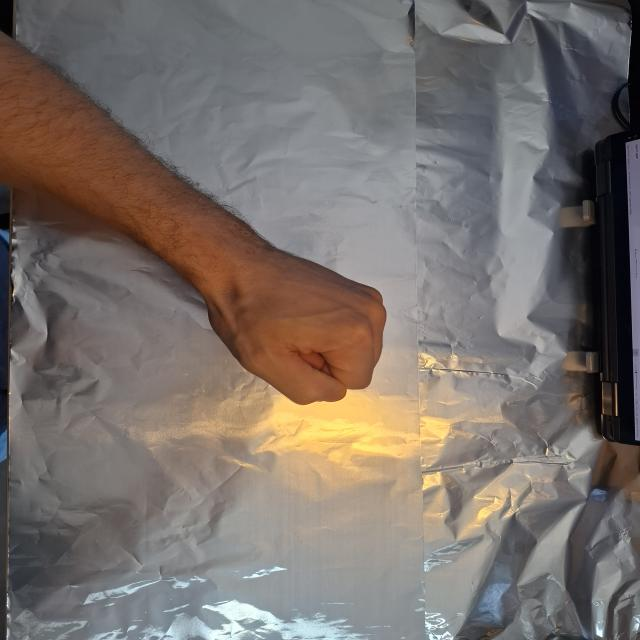glove_off: (198, 243, 390, 407)
